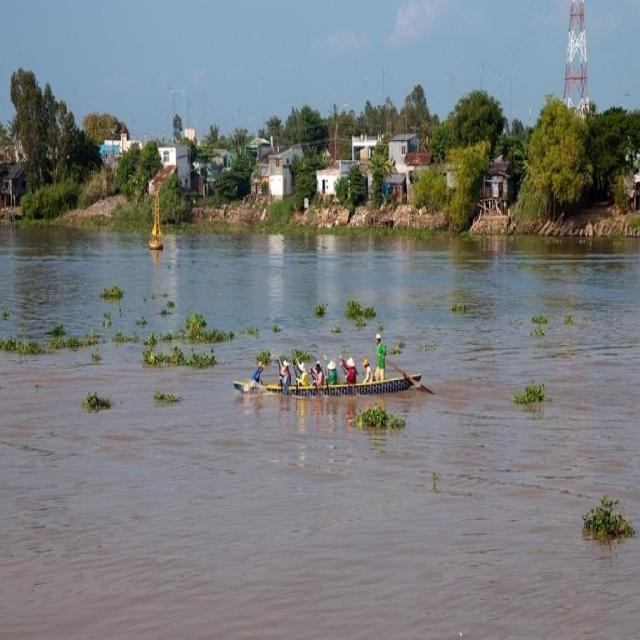Hyacinth: (10, 326, 106, 362), (579, 498, 633, 550), (148, 344, 214, 386), (505, 378, 557, 413), (179, 315, 231, 348), (88, 278, 140, 310), (348, 408, 402, 434), (80, 386, 117, 420), (345, 301, 374, 321), (154, 391, 188, 408), (444, 304, 471, 314), (313, 304, 328, 318)
boat: (226, 367, 428, 402)
